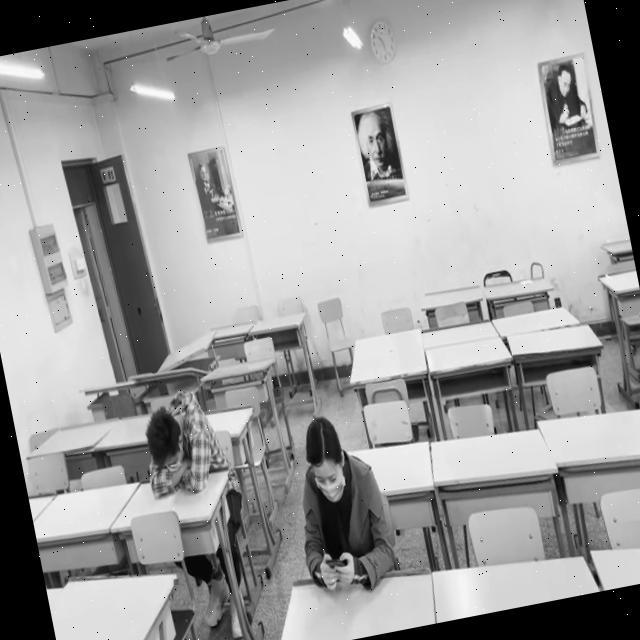phone: (278, 404, 399, 601)
sleep: (134, 385, 227, 499)
